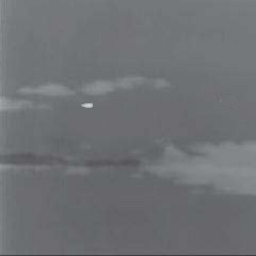Target: (79, 102, 94, 109)
